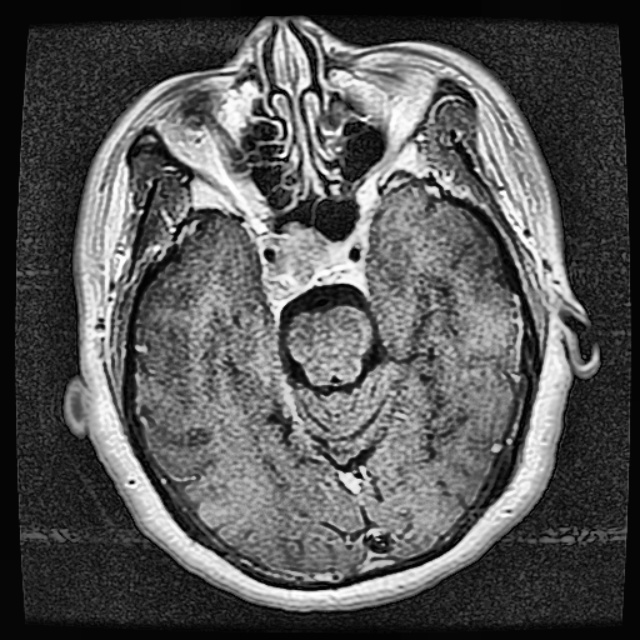Pituitary: (267, 229, 357, 299)
